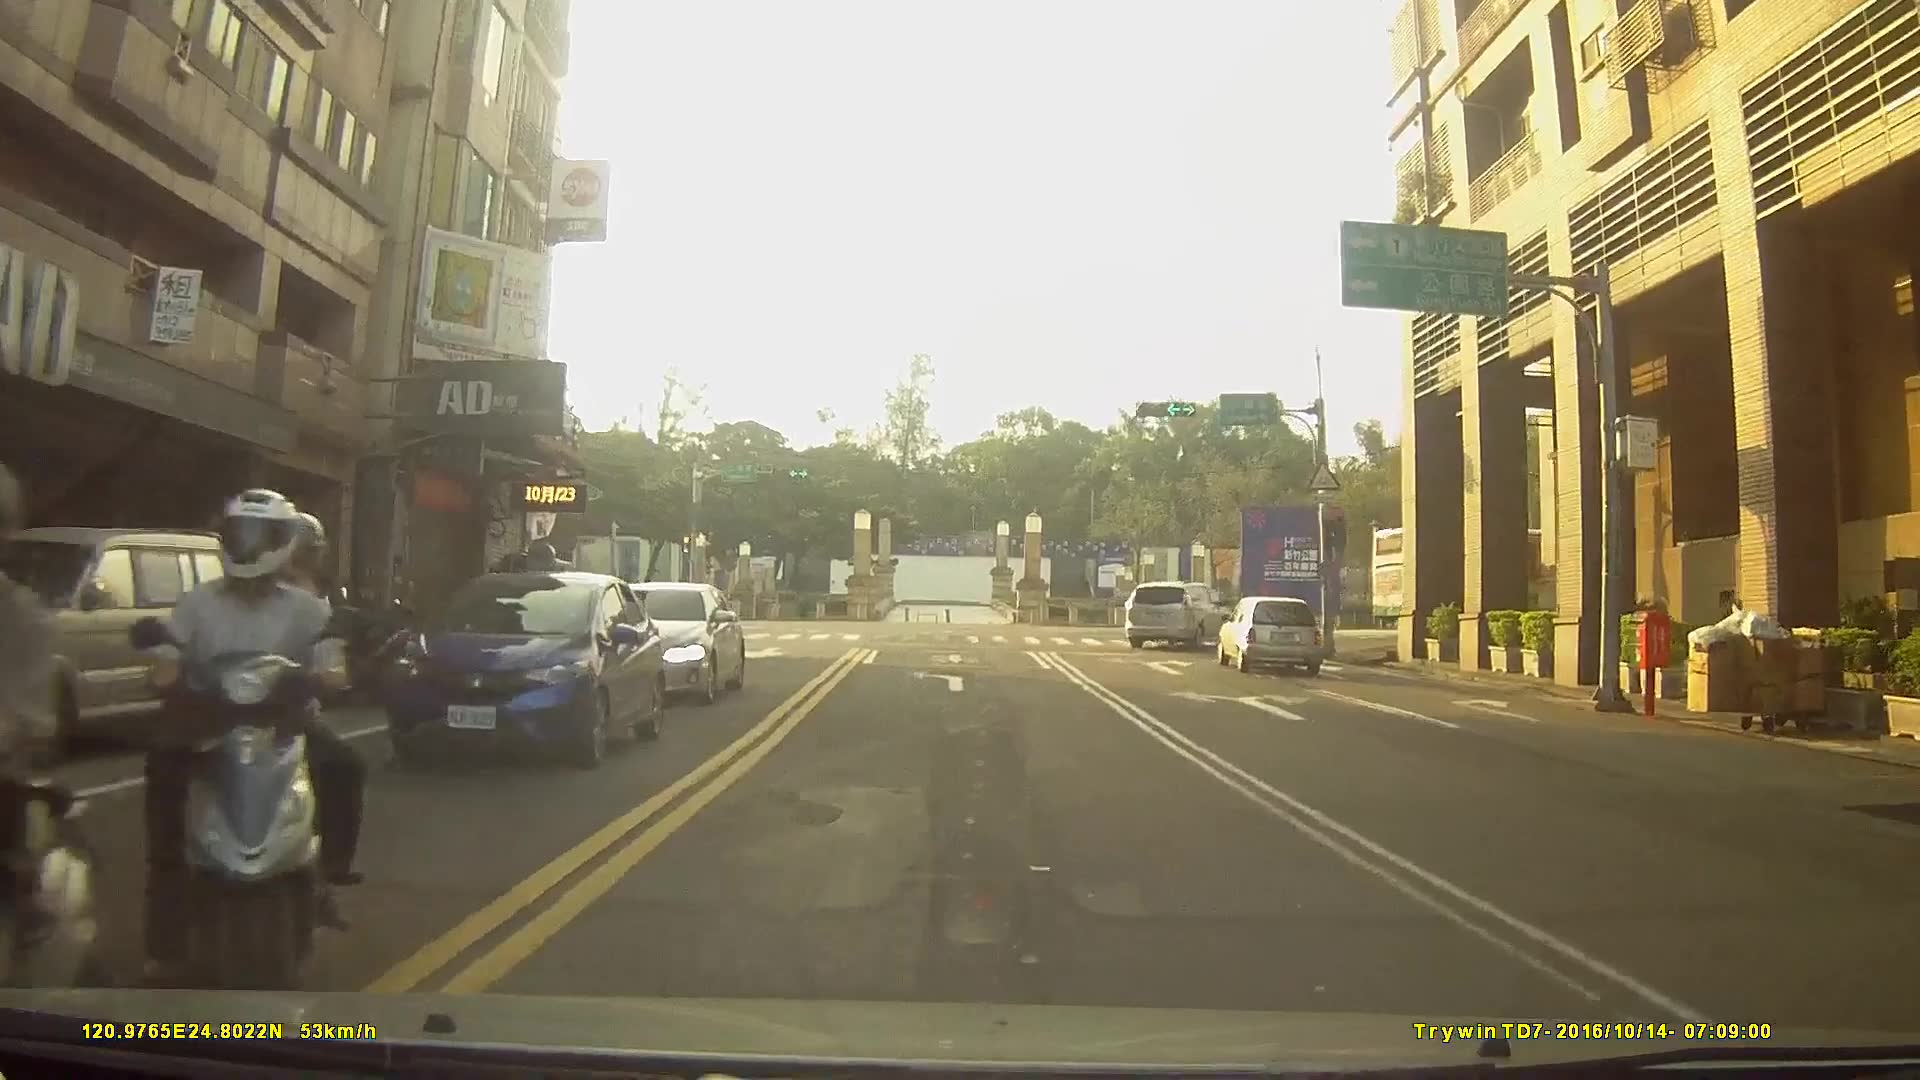rider: (94, 493, 343, 1016), (1, 470, 102, 1021)
vehicle: (1, 528, 263, 765), (380, 571, 662, 772), (570, 581, 741, 705), (1215, 594, 1321, 671), (1126, 580, 1235, 648)
